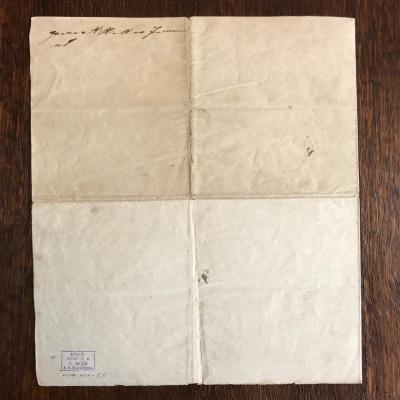document: (29, 16, 363, 388)
